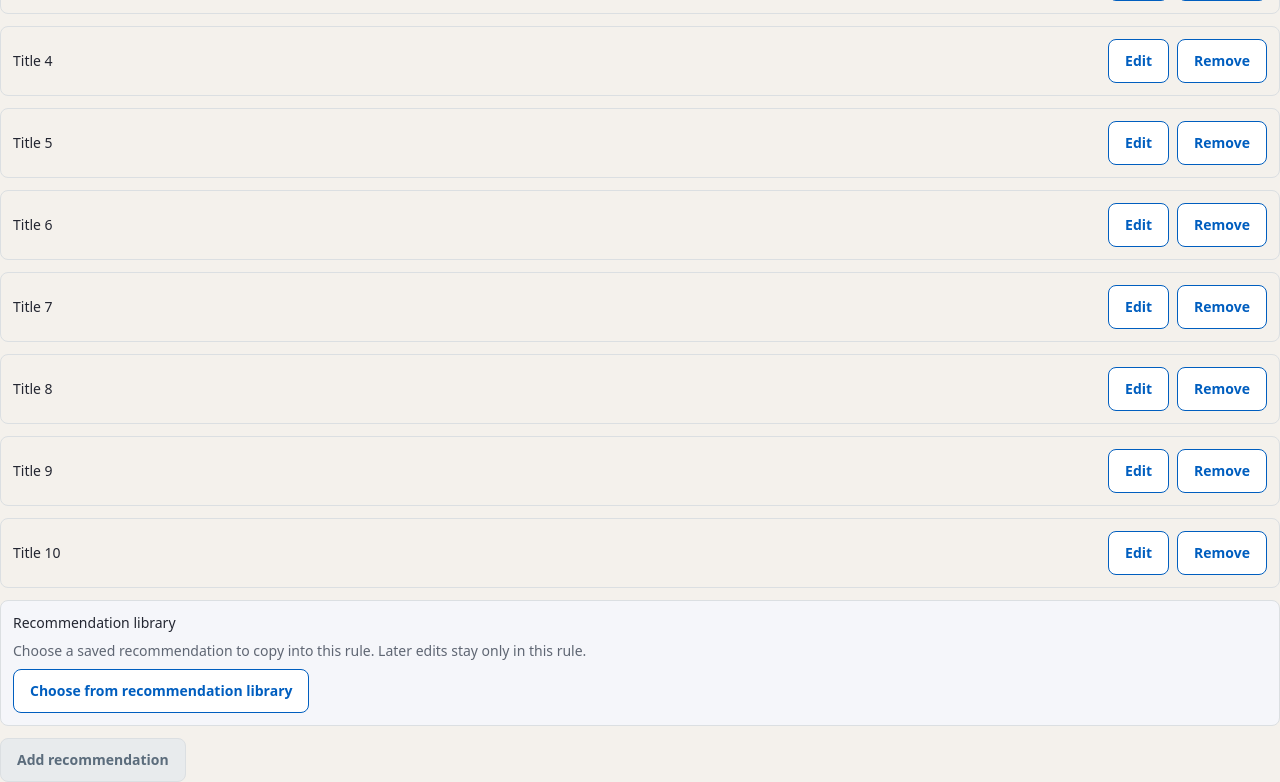
Test: RecommendationFields list limits › keeps the cap when ten recommendations are already present
The image size is (1280, 782).
(page scrolled)
Expected: the button "Add recommendation" is disabled, [0,738,186,781]
Click the button "Choose from recommendation library".
click(161, 691)  # box [13,669,310,713]
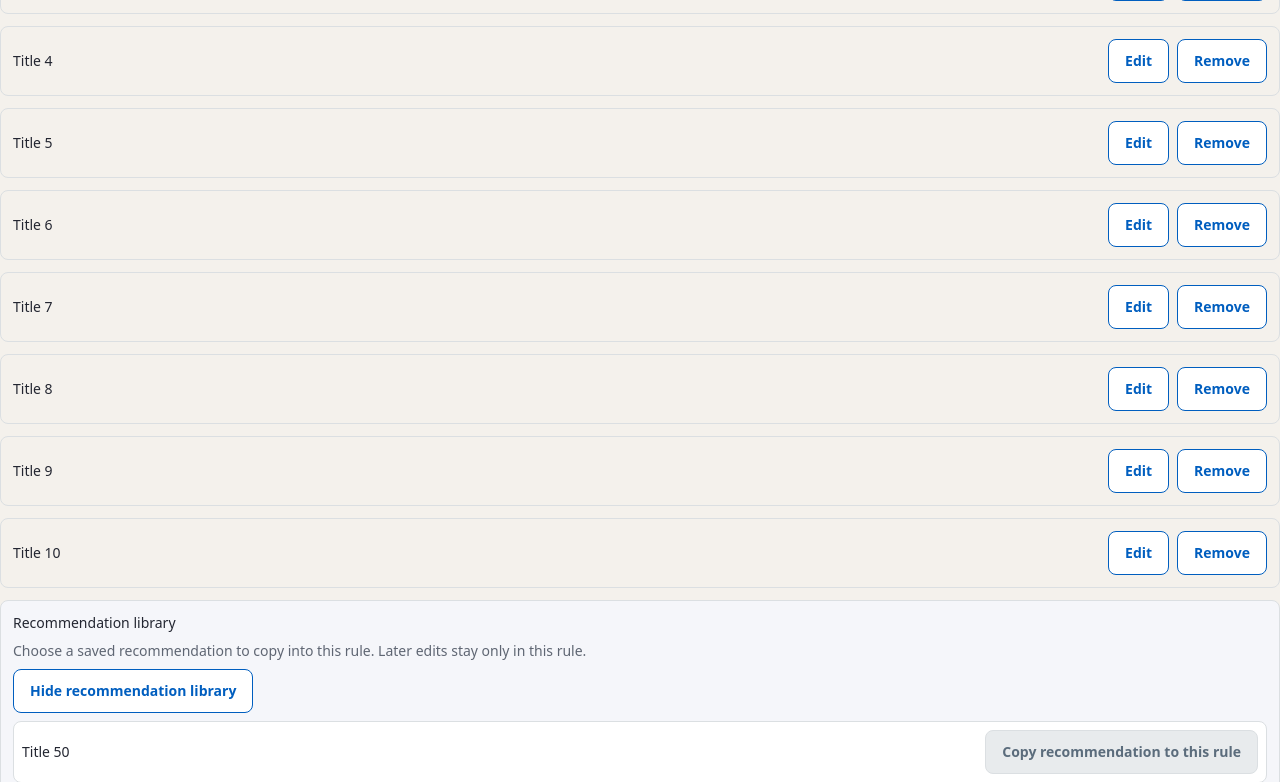
Expected: the text "Recommendation library" is shown, [13,613,176,632]
Expected: the button "Copy recommendation to this rule" is disabled, [985,730,1258,774]
